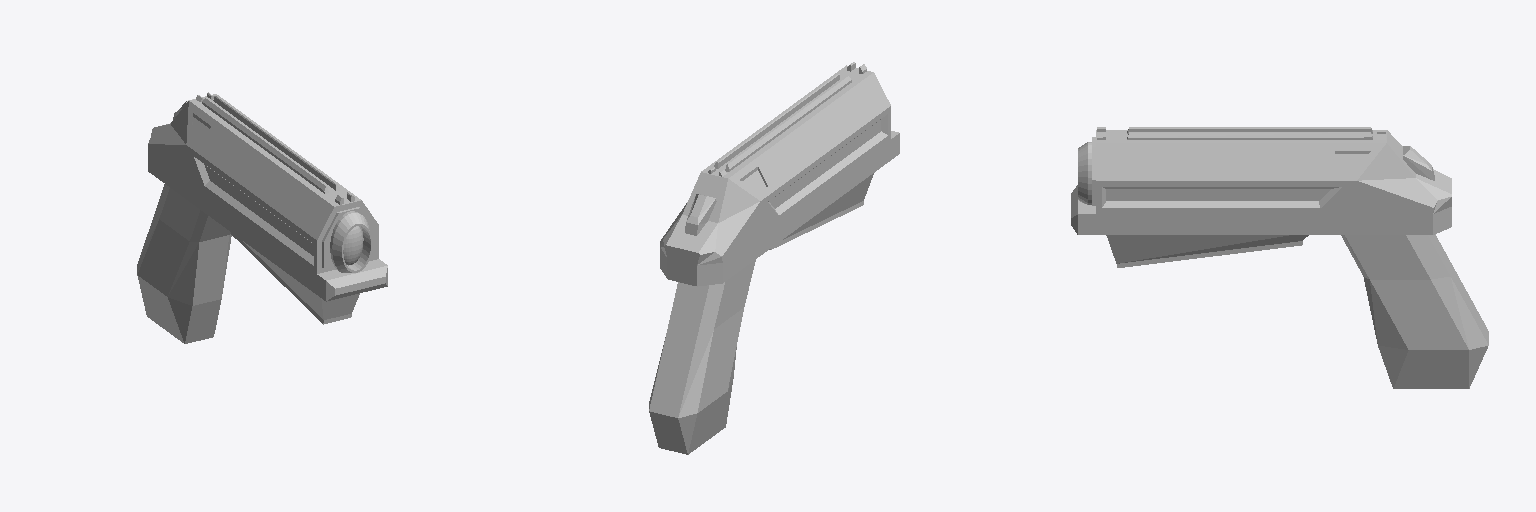
Rendered from Pistol.obj.
The picture shows the model from 3 angles: view 1: azimuth 30°, elevation 25°; view 2: azimuth 150°, elevation 25°; view 3: azimuth 270°, elevation 25°; orthographic projection.
Parts seen in each view (by area): view 1: Cube, Cube.005, Cube.002, Cylinder, Sphere; view 2: Cube, Cube.005, Cube.002, Cube.001; view 3: Cube, Cube.005, Cube.002, Cylinder, Cube.001.
Boxes of the visible parts, x1=… form: Cube: x1=148, y1=94, x2=387, y2=324; Cube.005: x1=137, y1=184, x2=231, y2=343; Cube.002: x1=202, y1=95, x2=339, y2=193; Cylinder: x1=330, y1=211, x2=371, y2=272; Sphere: x1=343, y1=226, x2=362, y2=265; Cube: x1=660, y1=65, x2=899, y2=286; Cube.005: x1=649, y1=260, x2=755, y2=454; Cube.002: x1=714, y1=74, x2=851, y2=171; Cube.001: x1=685, y1=194, x2=716, y2=235; Cube: x1=1071, y1=130, x2=1451, y2=267; Cube.005: x1=1341, y1=234, x2=1488, y2=388; Cube.002: x1=1127, y1=127, x2=1372, y2=139; Cylinder: x1=1078, y1=142, x2=1091, y2=204; Cube.001: x1=1403, y1=146, x2=1434, y2=180.
Size of the model in its own units: 0.4451 by 1.73 by 2.59.